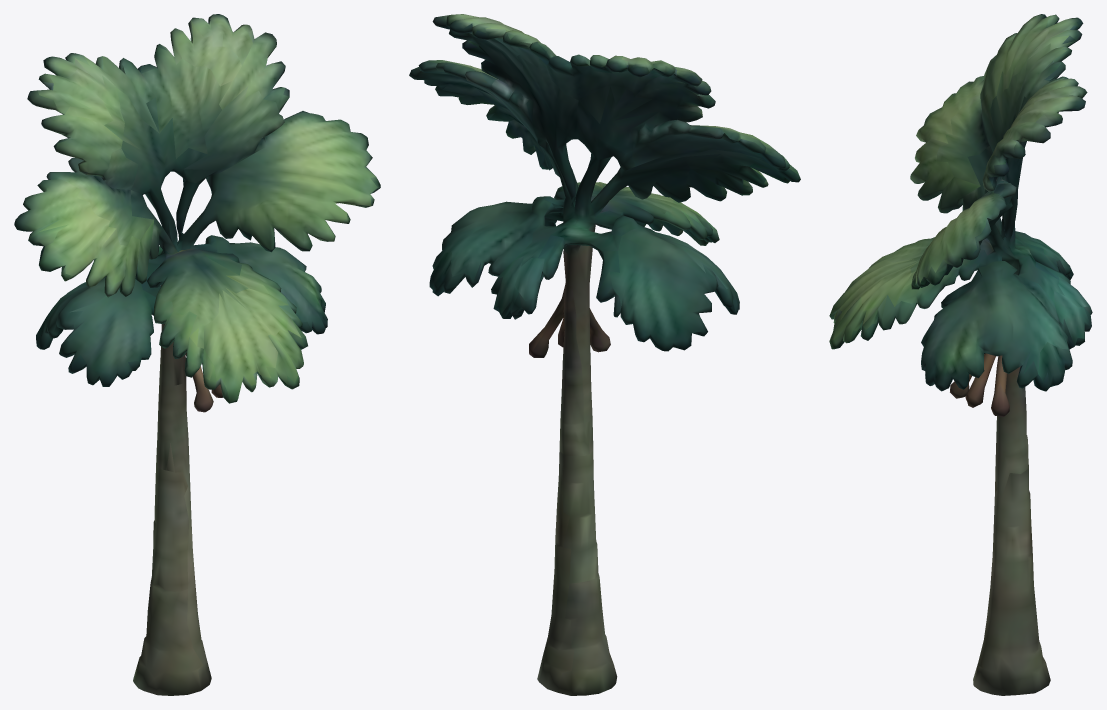
Rendered from f03_palmeira_leque.glb.
3 views of the same model, side by side, from view 1: azimuth 30°, elevation 25°; view 2: azimuth 150°, elevation 25°; view 3: azimuth 270°, elevation 25° (orthographic). The views are drawn at different scales.
Visible parts, largest first — view 1: f03_palmeira_leque; view 2: f03_palmeira_leque; view 3: f03_palmeira_leque.
Boxes of the visible parts, left/top/right/bottom form: f03_palmeira_leque: left=14, top=14, right=380, bottom=695; f03_palmeira_leque: left=409, top=14, right=800, bottom=695; f03_palmeira_leque: left=829, top=14, right=1092, bottom=695.
Bounding box in the file's own units: 0.6158 × 1.04 × 0.3985.
Materials: 1 (1 with a texture image).
